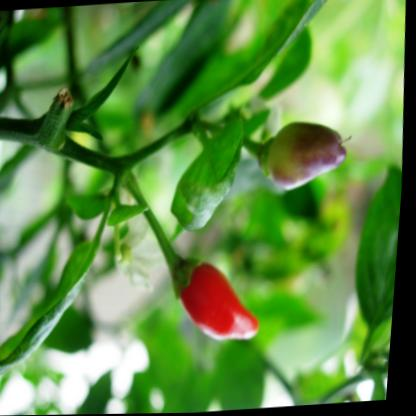--: (113, 162, 276, 356), (156, 107, 265, 264)
